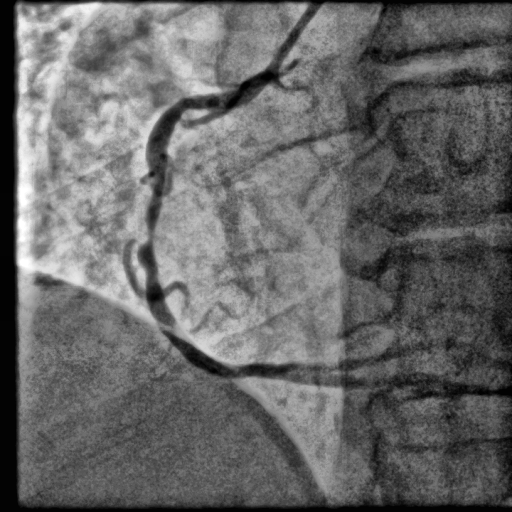pborca: (279, 340, 440, 372)
pda: (278, 372, 460, 389)
rca: (139, 65, 289, 379)
